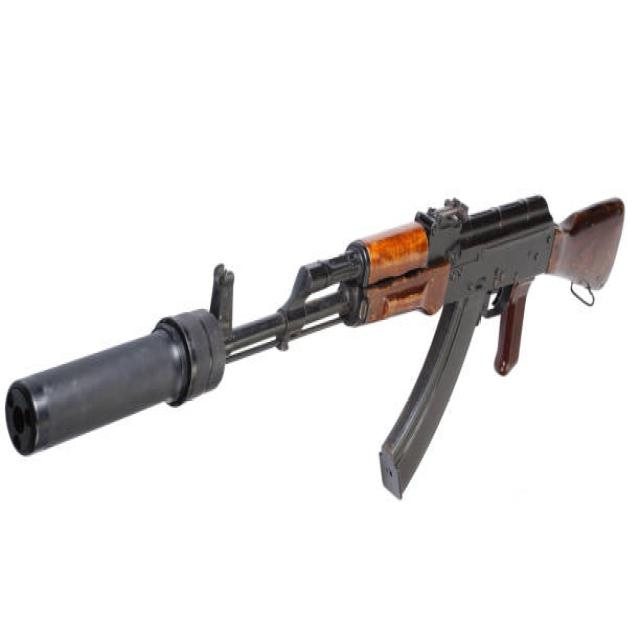rifle: (2, 174, 631, 540)
